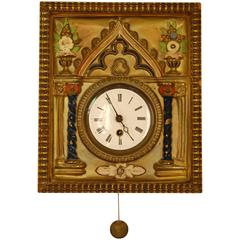clock: (86, 86, 154, 154)
